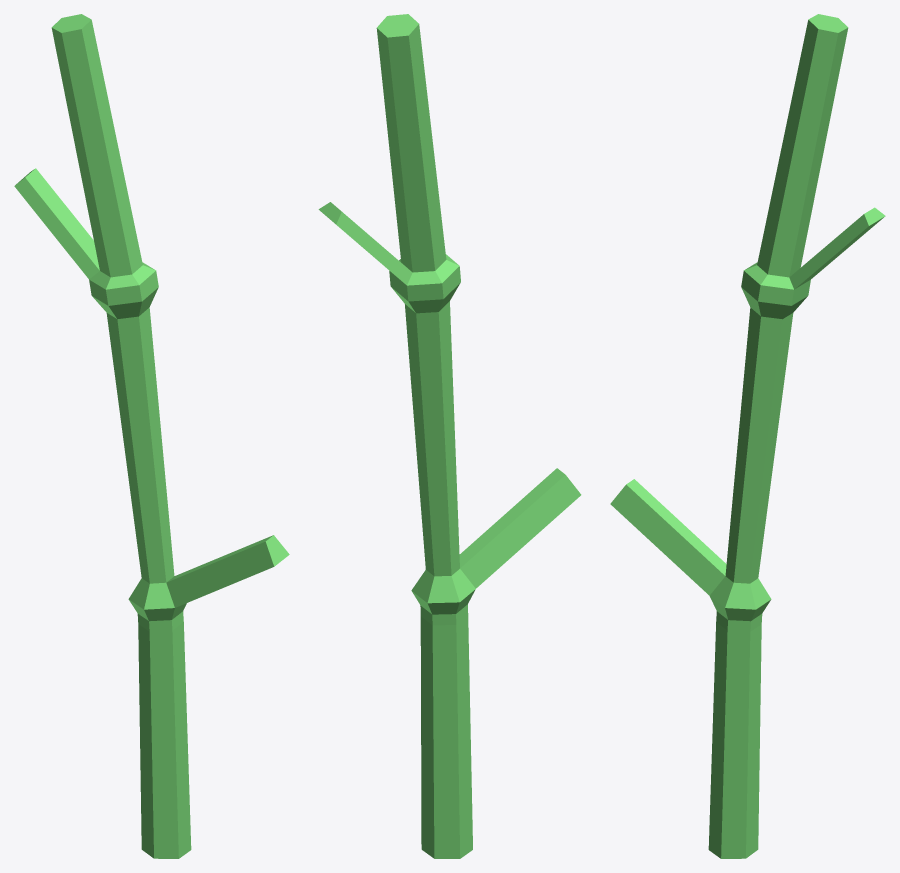
The model's file is bamboo1.fbx.
The picture shows the model from 3 angles, left to right: view 1: azimuth 90°, elevation 25°; view 2: azimuth 150°, elevation 25°; view 3: azimuth 270°, elevation 25°; orthographic projection. The views are drawn at different scales.
Parts seen in each view (by area): view 1: Cube; view 2: Cube; view 3: Cube.
Boxes of the visible parts, x1,y1,x2,y2 form: Cube: [14, 14, 289, 858]; Cube: [318, 14, 581, 858]; Cube: [610, 14, 885, 858].
Size of the model in its own units: 418 by 2526 by 760.
